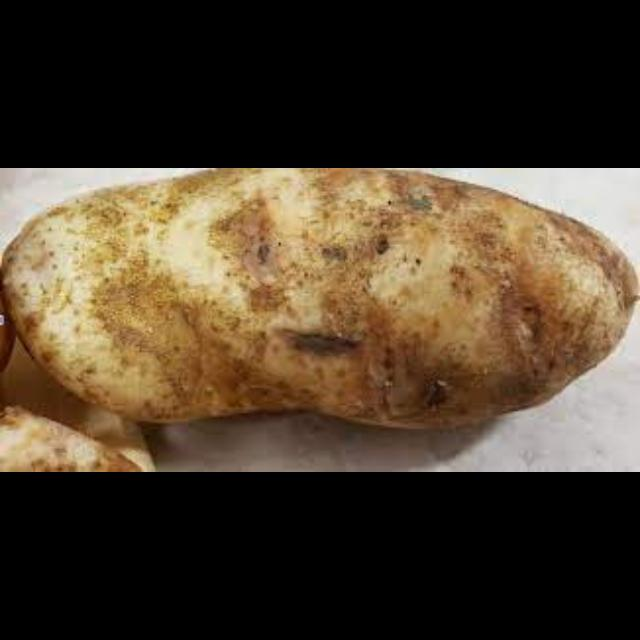Damaged potato: (0, 170, 636, 456)
